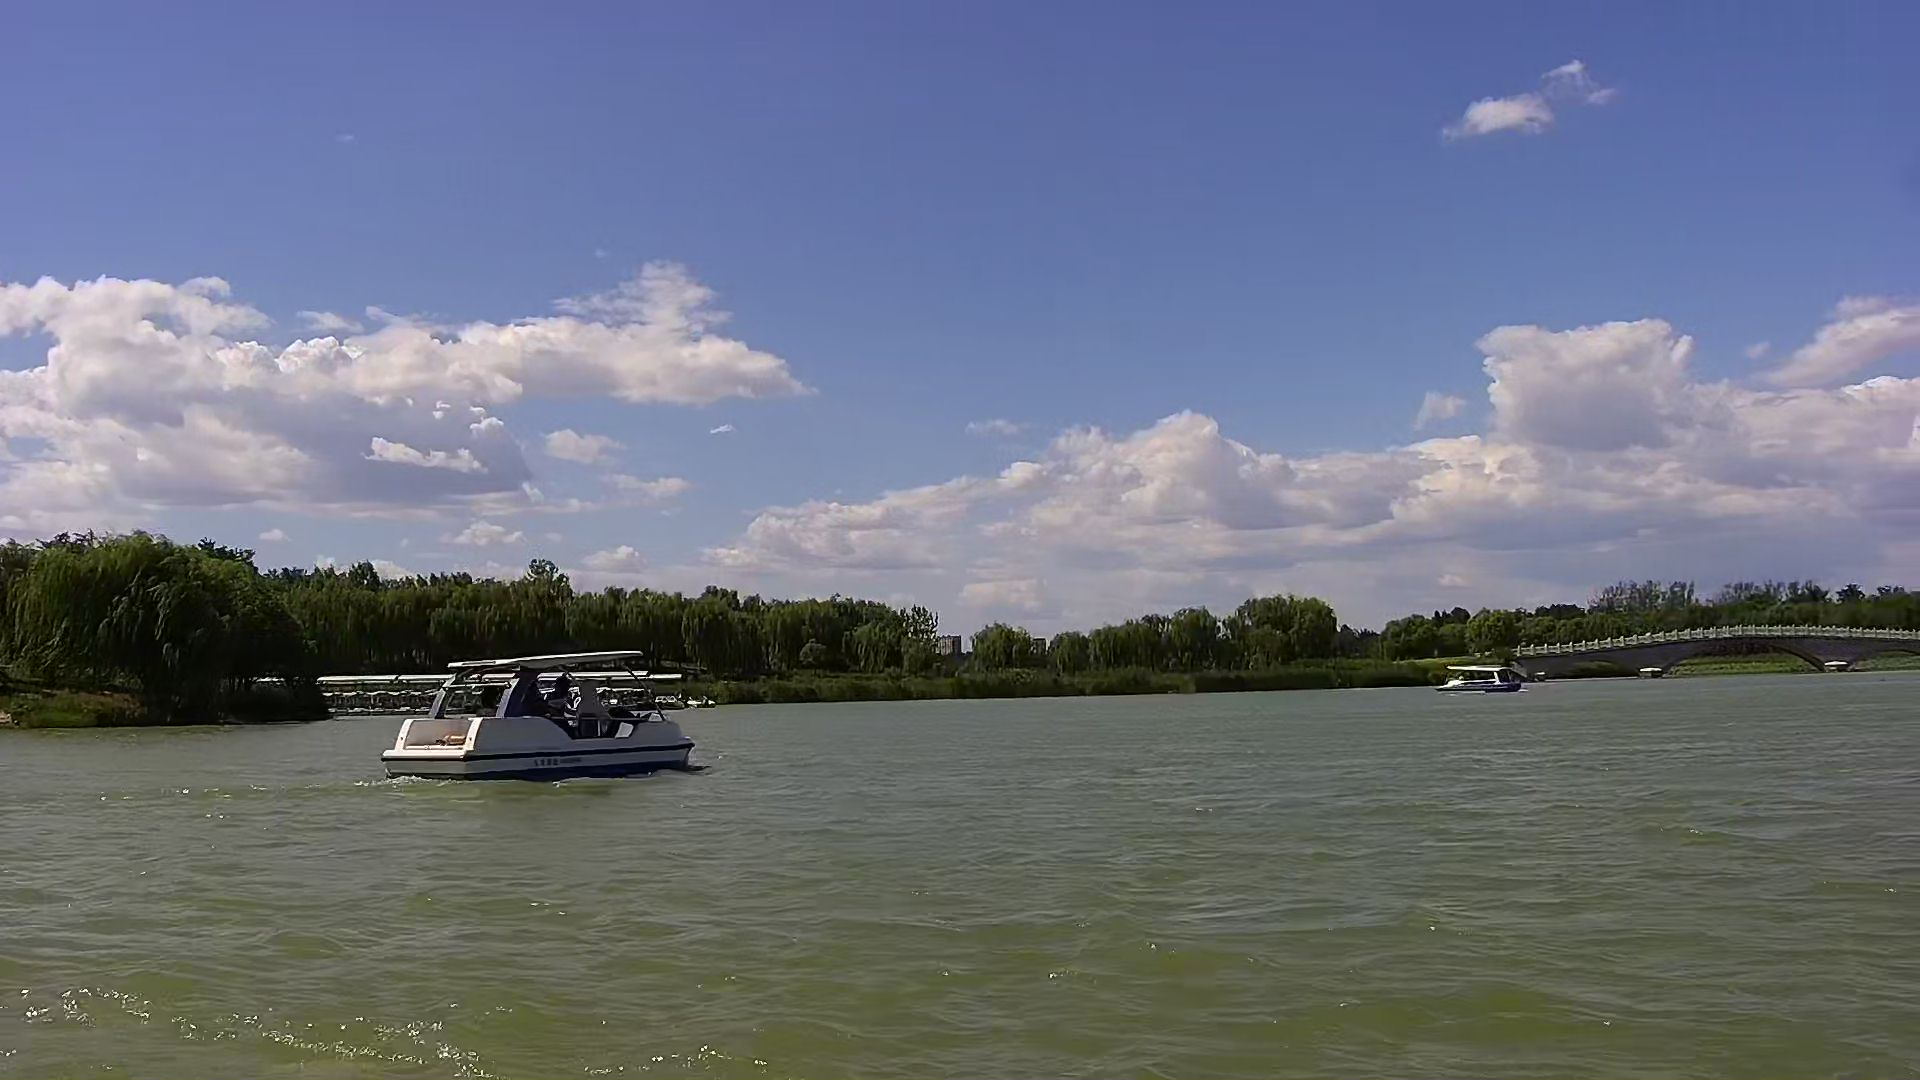boat: (378, 649, 694, 787), (1433, 658, 1527, 699)
bridge: (1577, 636, 1869, 691)
